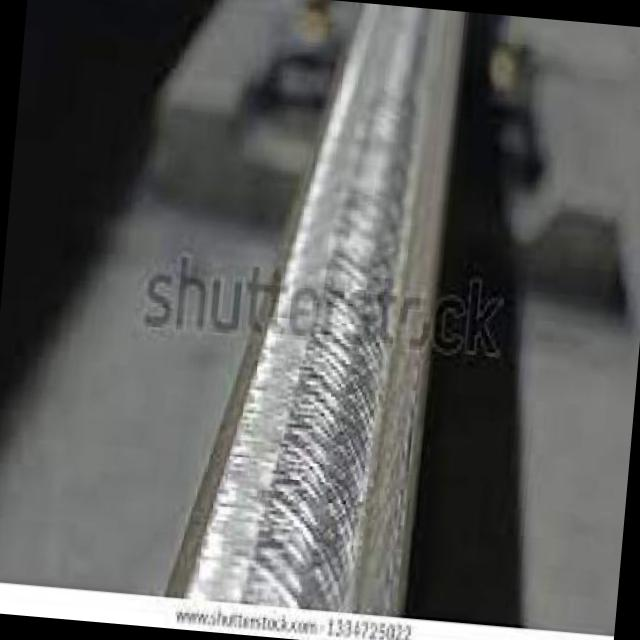defective: (158, 0, 473, 619)
